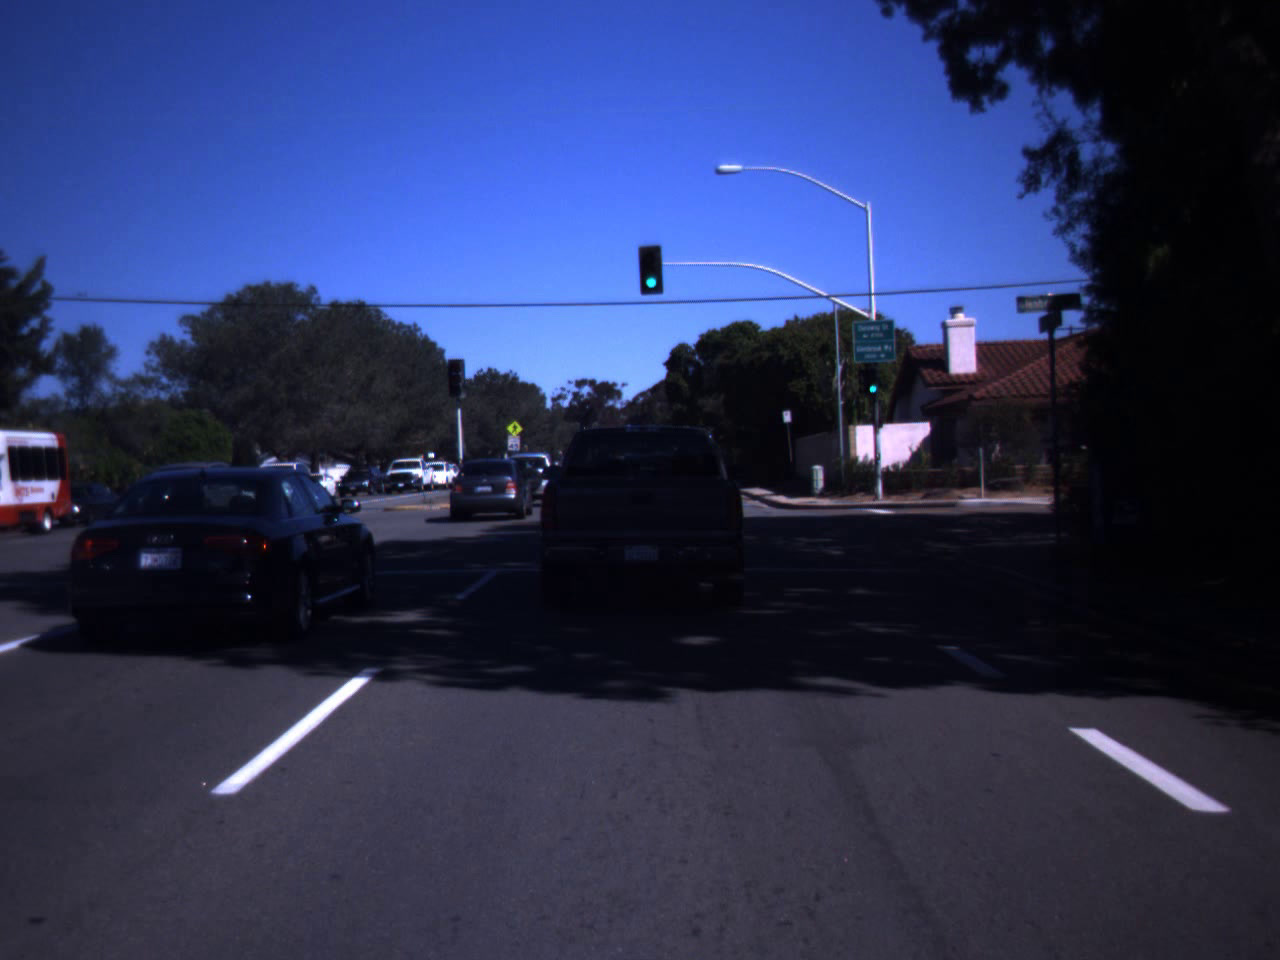go: (638, 251, 665, 291), (864, 365, 882, 395)
